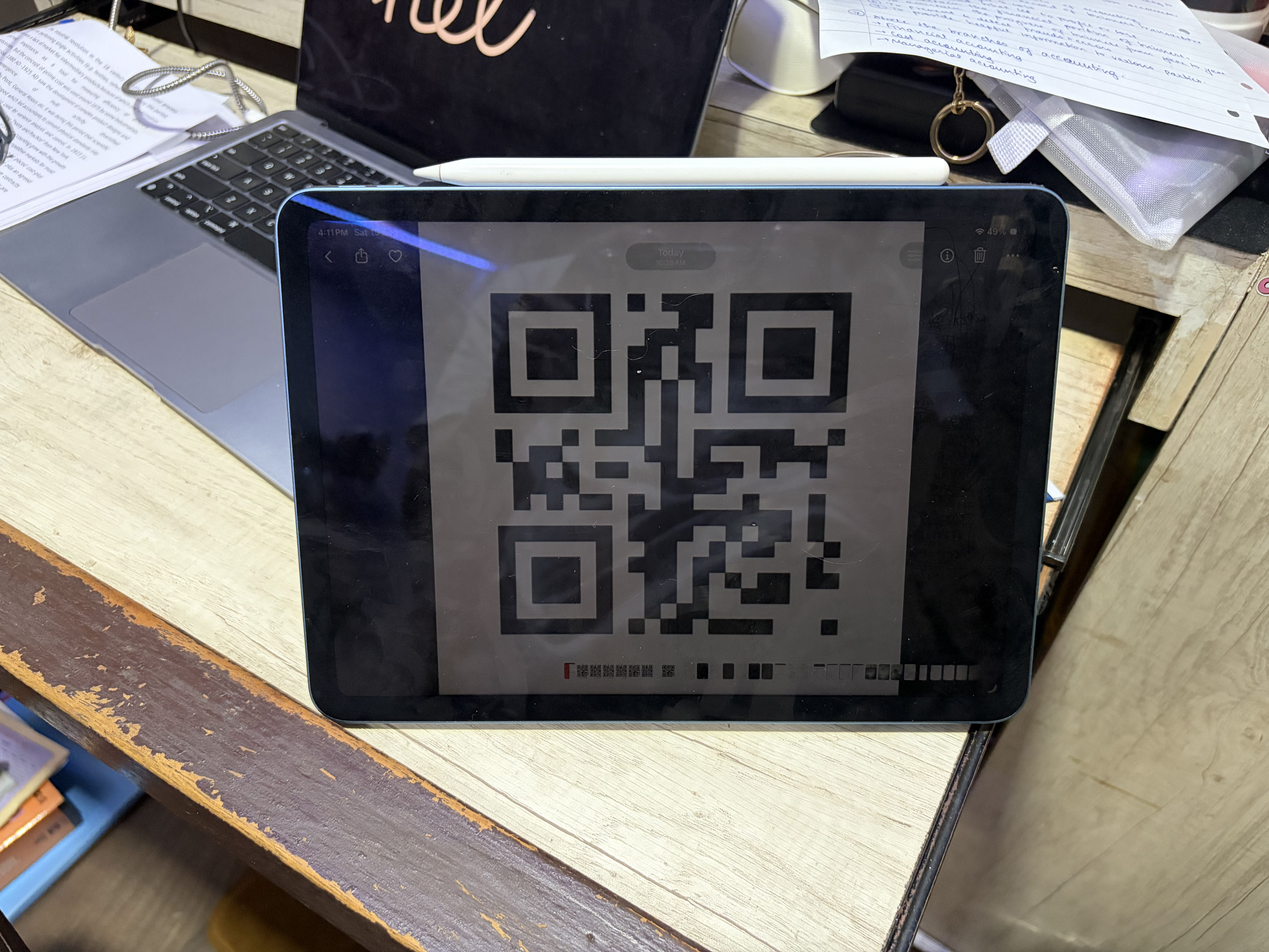QR: (460, 260, 859, 645)
